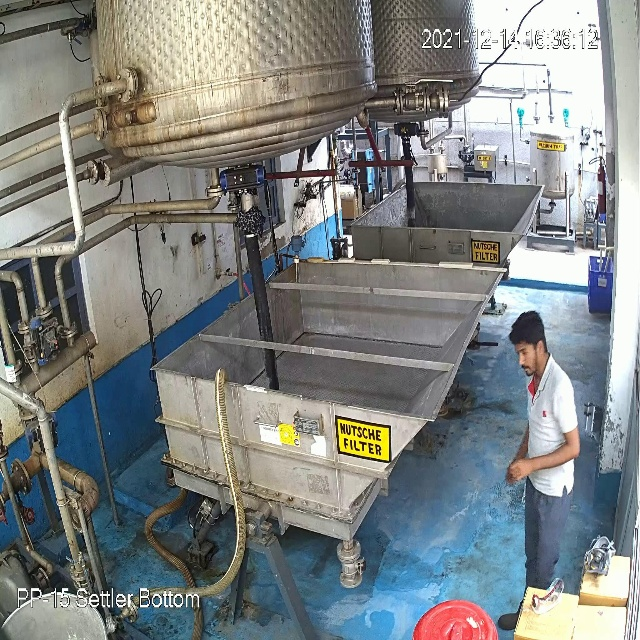Sin_gafas: (508, 340, 541, 359)
Sin_mascara: (518, 354, 542, 377)
